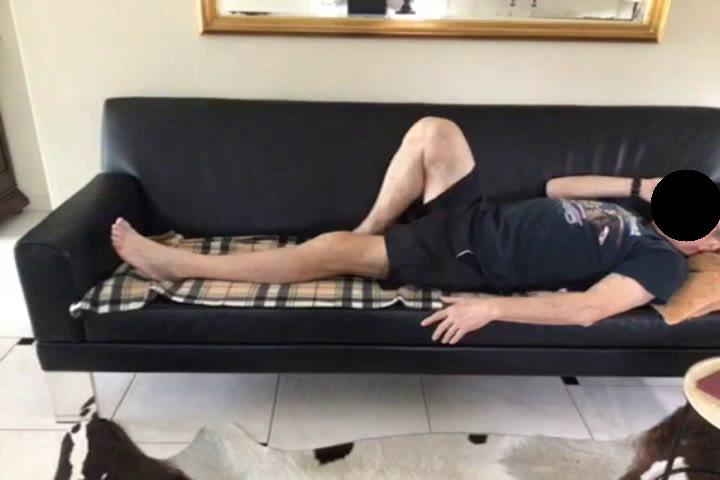lower_body: (111, 117, 489, 295)
